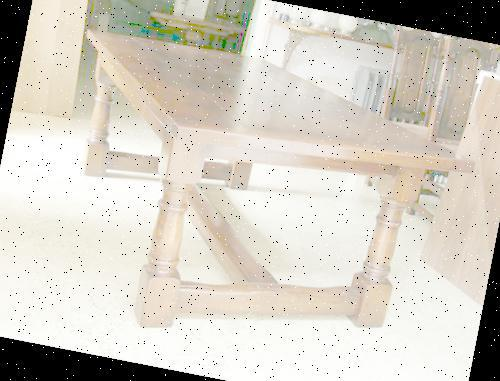Mesa: (31, 20, 489, 380)
